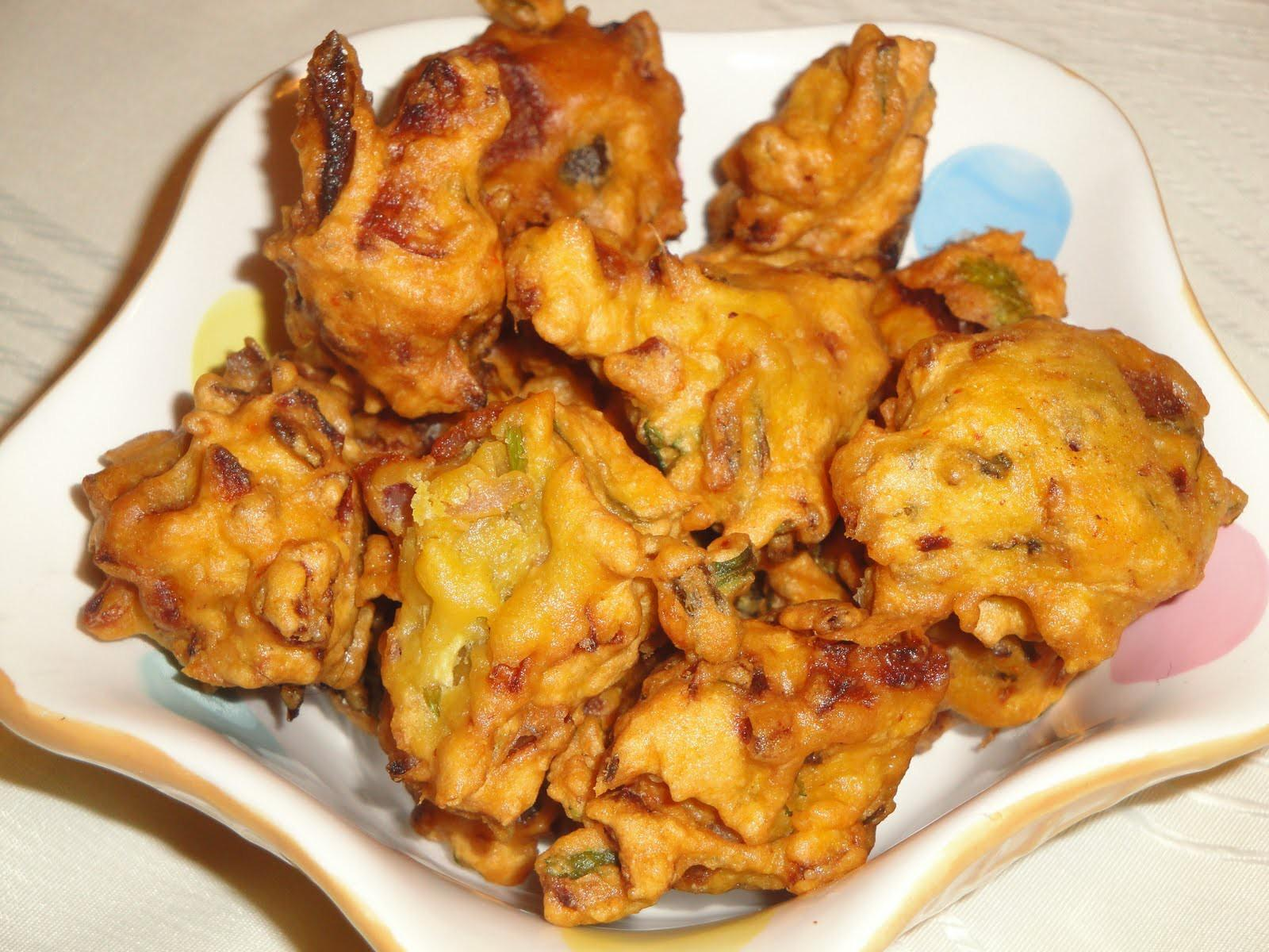OnionPakoda: (75, 0, 1251, 900)
